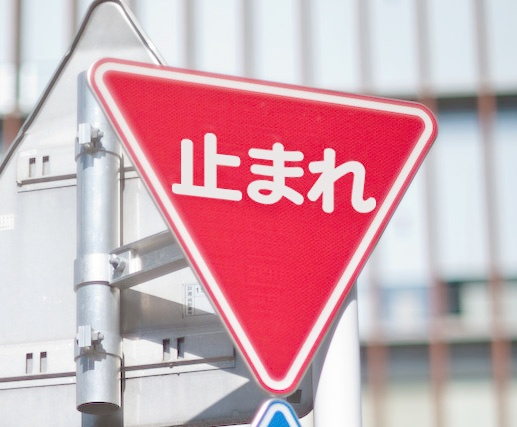Regulatory_sign_triangle: (84, 47, 444, 398)
